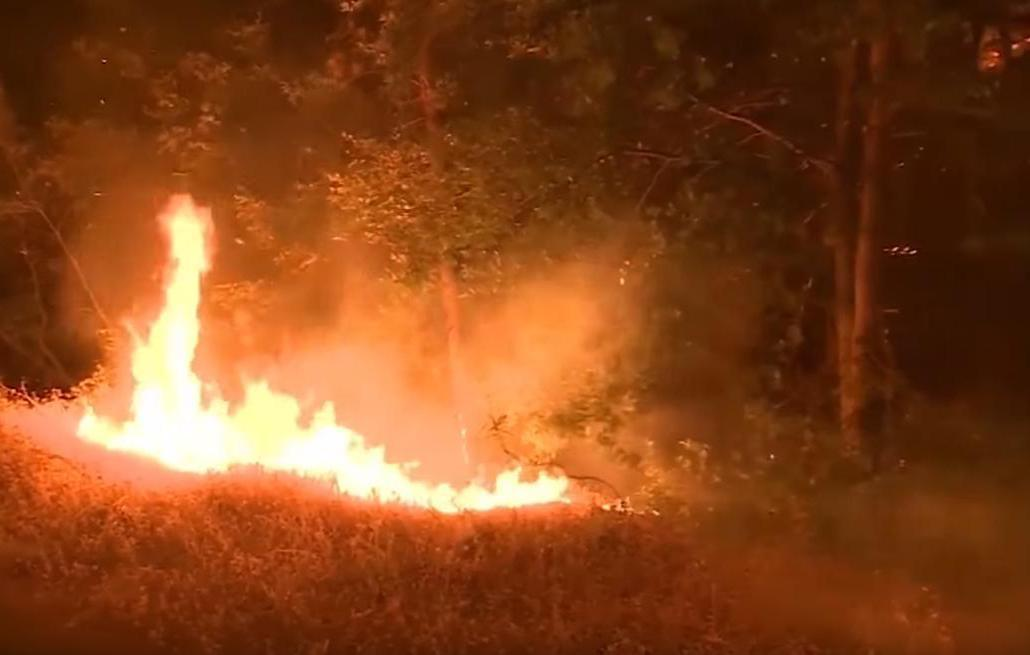Fire: (68, 187, 574, 534)
